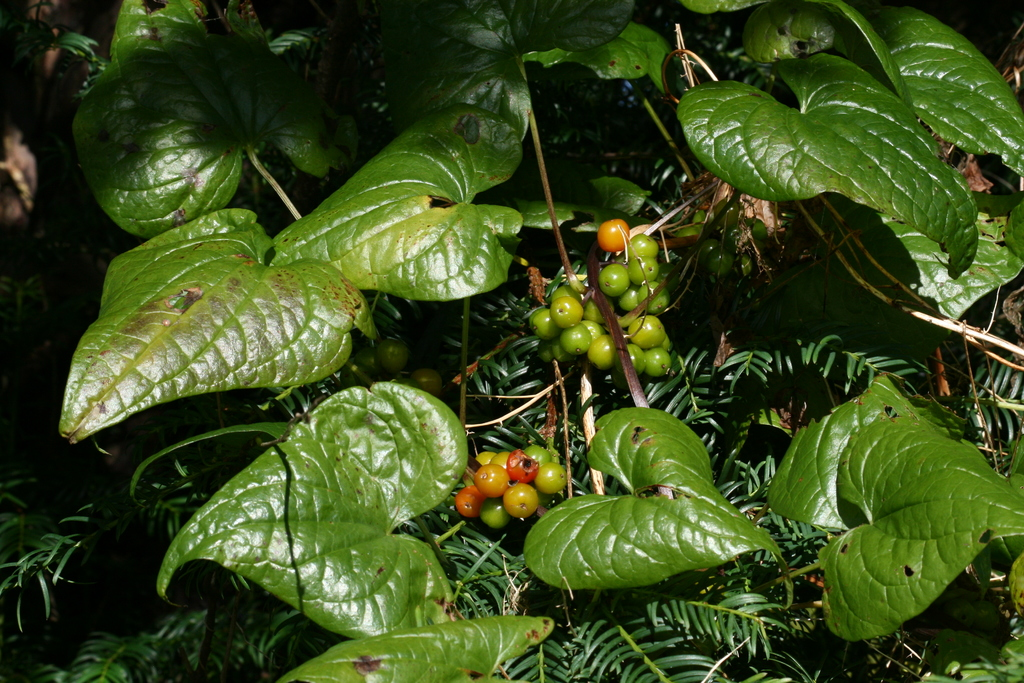Tomato: (531, 214, 670, 373), (472, 454, 561, 525)
